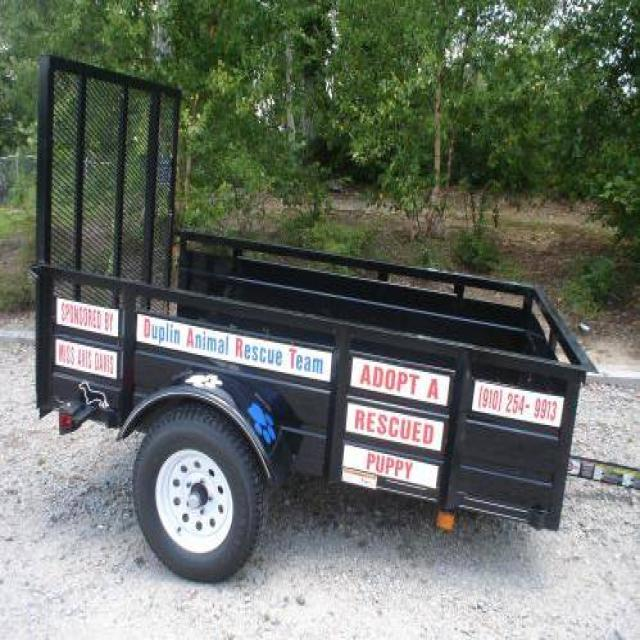dogs: (77, 374, 111, 418)
